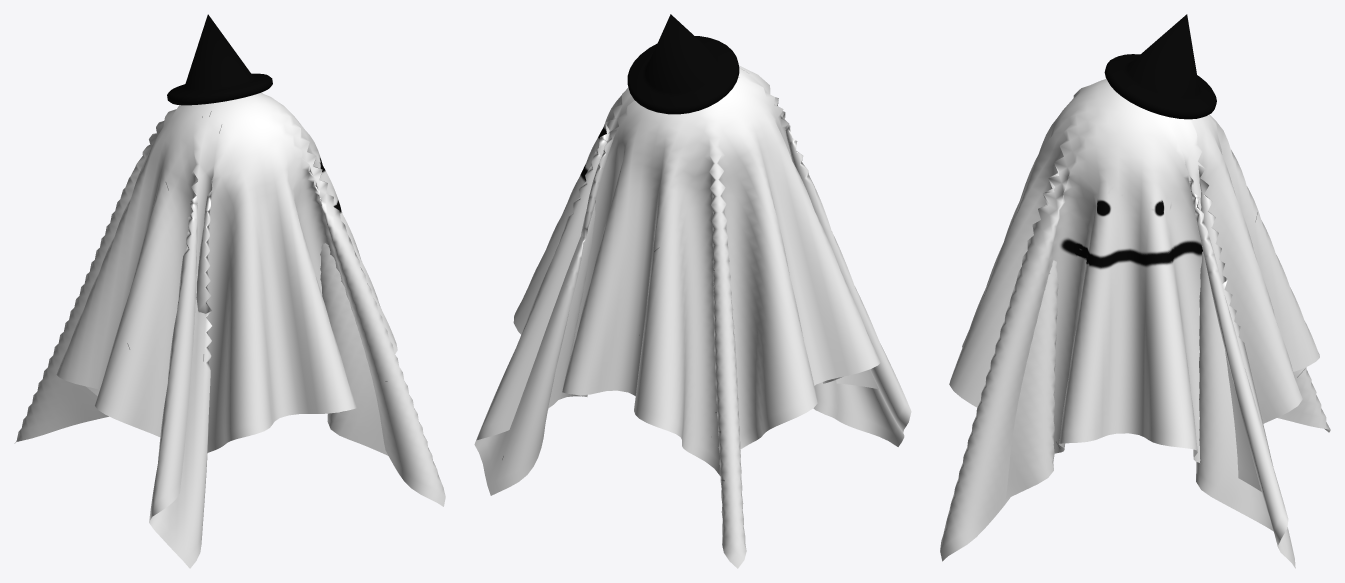
Rendered from ghost.glb.
3 views of the same model, side by side, from view 1: azimuth 30°, elevation 25°; view 2: azimuth 150°, elevation 25°; view 3: azimuth 270°, elevation 25° (orthographic). The views are drawn at different scales.
Parts seen in each view (by area): view 1: Plane, Cone; view 2: Plane, Cone; view 3: Plane, Cone.
Boxes of the visible parts, x1,y1,x2,y2 form: Plane: (14, 92, 445, 568); Cone: (167, 14, 272, 105); Plane: (474, 65, 911, 568); Cone: (627, 14, 739, 114); Plane: (940, 79, 1330, 568); Cone: (1104, 14, 1216, 119).
Size of the model in its own units: 4.45 by 6.36 by 4.54.
2 materials, 2 textured.
